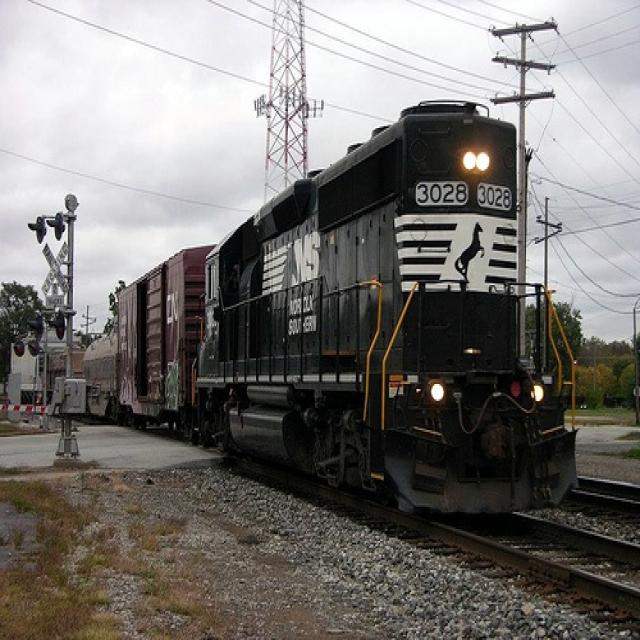train: (84, 103, 573, 513)
